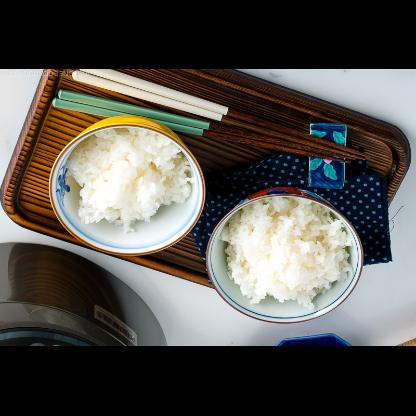white rice: (222, 199, 352, 311), (68, 130, 192, 233)
